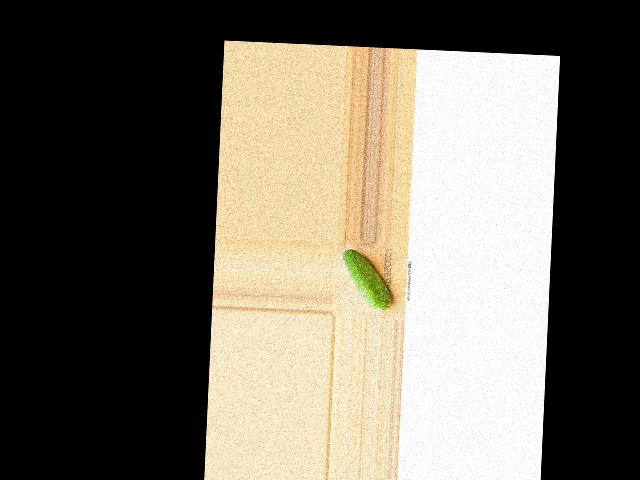cucumber: (339, 249, 394, 312)
